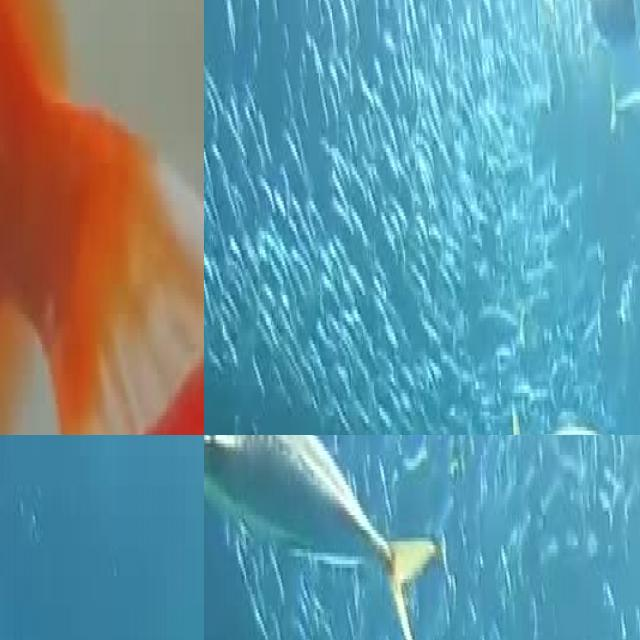fish: (0, 0, 204, 435), (204, 435, 436, 640)
